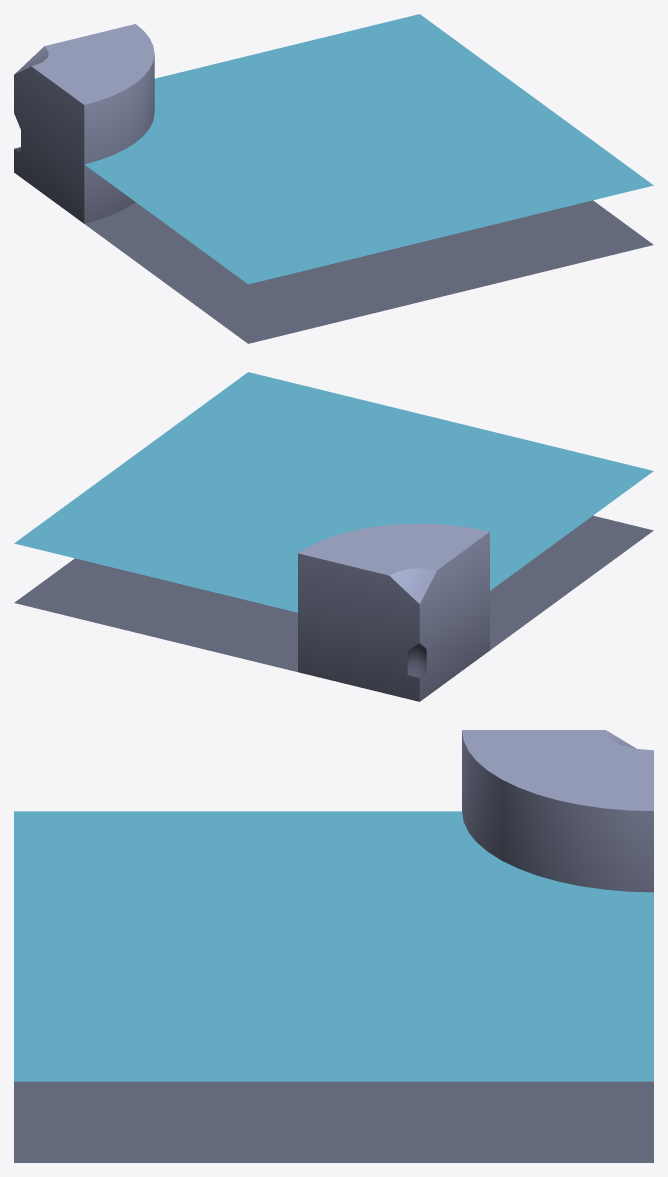
The model's file is fountain-corner-inner.glb.
The picture shows the model from 3 angles, top to bottom: view 1: azimuth 30°, elevation 25°; view 2: azimuth 150°, elevation 25°; view 3: azimuth 270°, elevation 25°; orthographic projection. The views are drawn at different scales.
Parts seen in each view (by area): view 1: fountain-corner-inner; view 2: fountain-corner-inner; view 3: fountain-corner-inner.
Part boxes in pixels (x1=…): fountain-corner-inner: x1=14, y1=14, x2=653, y2=343; fountain-corner-inner: x1=14, y1=372, x2=653, y2=701; fountain-corner-inner: x1=14, y1=730, x2=653, y2=1162.
Bounding box in the file's own units: 1 × 0.28 × 1.
